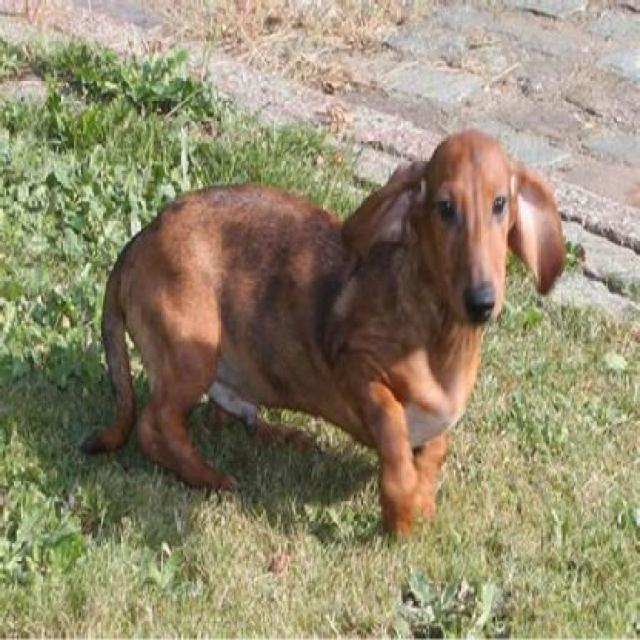Dog: (78, 128, 571, 549)
